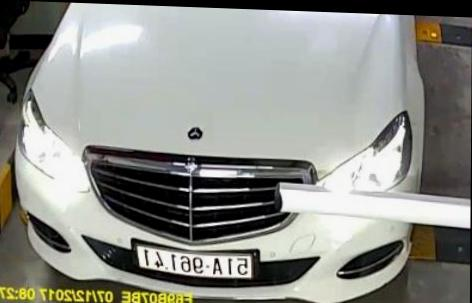License_Plate: (120, 238, 258, 293)
